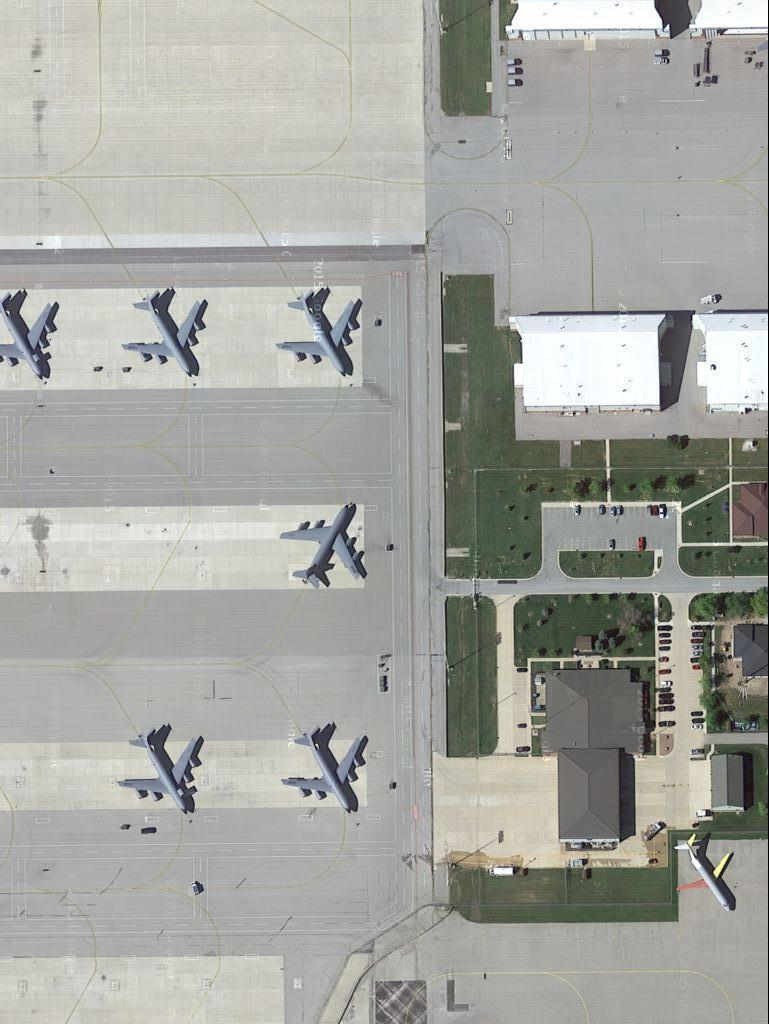KC-135: (283, 720, 372, 817), (281, 493, 366, 593), (123, 286, 212, 379), (279, 284, 361, 384), (121, 720, 206, 813), (1, 288, 65, 382)
